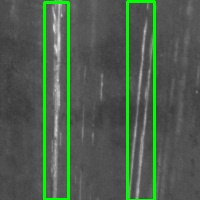scratches: (127, 1, 154, 200), (44, 2, 68, 199)
